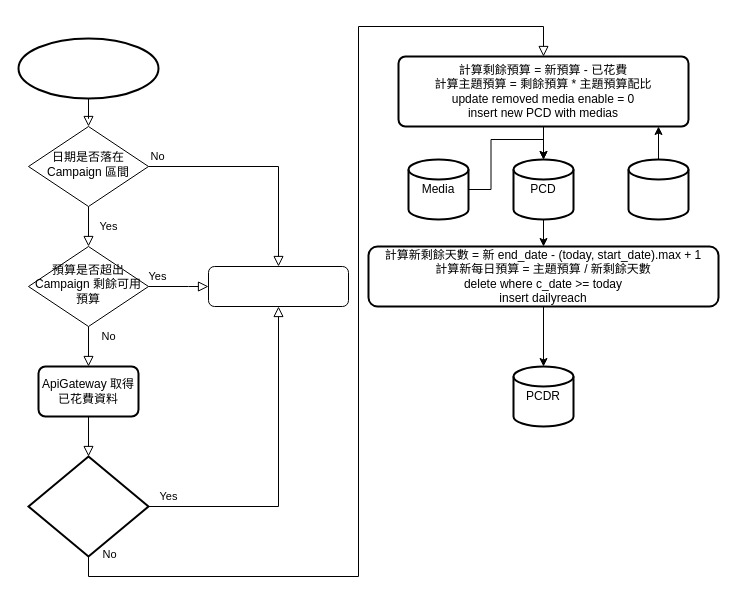
The diagram is 736 pixels wide and 604 high, and some of its shapes have lost their labels. Here are the shapes that lost their labels. From the top down, the centre of each, then its label:
pixel 88 68: 使用者更新一個 Instream AdGroup
pixel 658 189: 合約主題設定
pixel 278 286: 更新失敗並通知使用者 日期/預算驗證失敗
pixel 88 506: 新預算低於已花費
